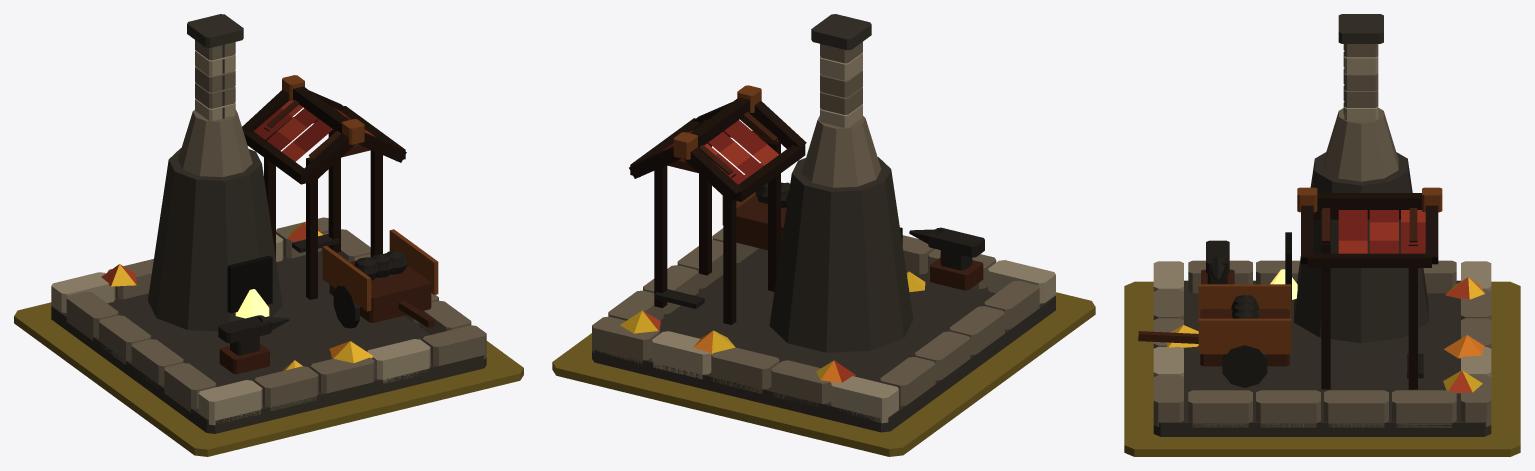
File: smeltery_t1.glb
3 views of the same model, side by side, from view 1: azimuth 30°, elevation 25°; view 2: azimuth 150°, elevation 25°; view 3: azimuth 270°, elevation 25° (orthographic). The views are drawn at different scales.
Parts seen in each view (by area): view 1: MMR | smeltery | T01 Architecture.001, MMR | smeltery | Tier 01 Ground.001, MMR | smeltery | T01 Autumn Dressing.001, MMR | smeltery | T01 Flame Glow.001; view 2: MMR | smeltery | T01 Architecture.001, MMR | smeltery | Tier 01 Ground.001, MMR | smeltery | T01 Autumn Dressing.001; view 3: MMR | smeltery | T01 Architecture.001, MMR | smeltery | Tier 01 Ground.001, MMR | smeltery | T01 Autumn Dressing.001.
Boxes of the visible parts, x1,y1,x2,y2 form: MMR | smeltery | T01 Architecture.001: (51,14,486,433); MMR | smeltery | Tier 01 Ground.001: (14,302,523,456); MMR | smeltery | T01 Autumn Dressing.001: (101,221,373,370); MMR | smeltery | T01 Flame Glow.001: (235,289,269,318); MMR | smeltery | T01 Architecture.001: (592,14,1055,432); MMR | smeltery | Tier 01 Ground.001: (552,292,1095,456); MMR | smeltery | T01 Autumn Dressing.001: (620,271,925,382); MMR | smeltery | T01 Architecture.001: (1138,14,1491,436); MMR | smeltery | Tier 01 Ground.001: (1124,281,1520,456); MMR | smeltery | T01 Autumn Dressing.001: (1166,277,1485,393).
Size of the model in its own units: 2.35 by 2.17 by 2.35.
Materials: 2 (1 with a texture image).
